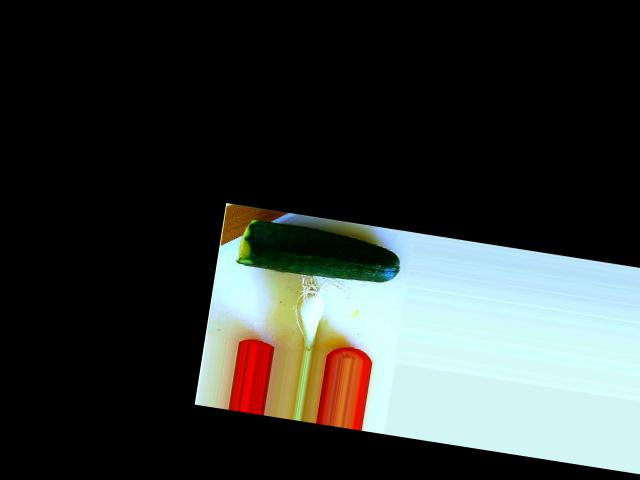cucumber: (236, 216, 405, 288)
